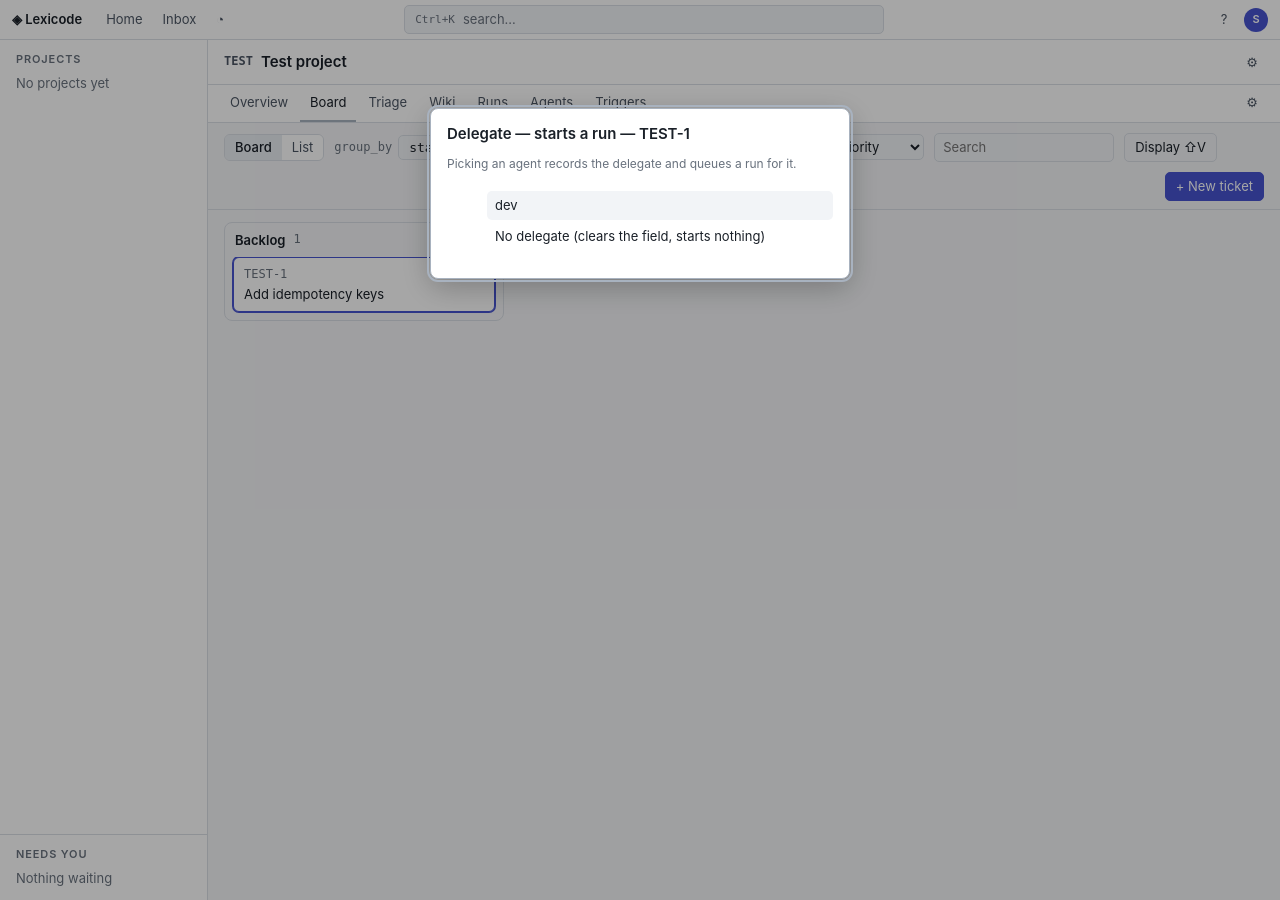
it: the board's `D` picker starts a run (UI spec §5.3) › says where the run actually is — queued with its hold reason, linked
The image size is (1280, 900).
Click the option "dev" at (506, 205), box [487, 191, 833, 220]
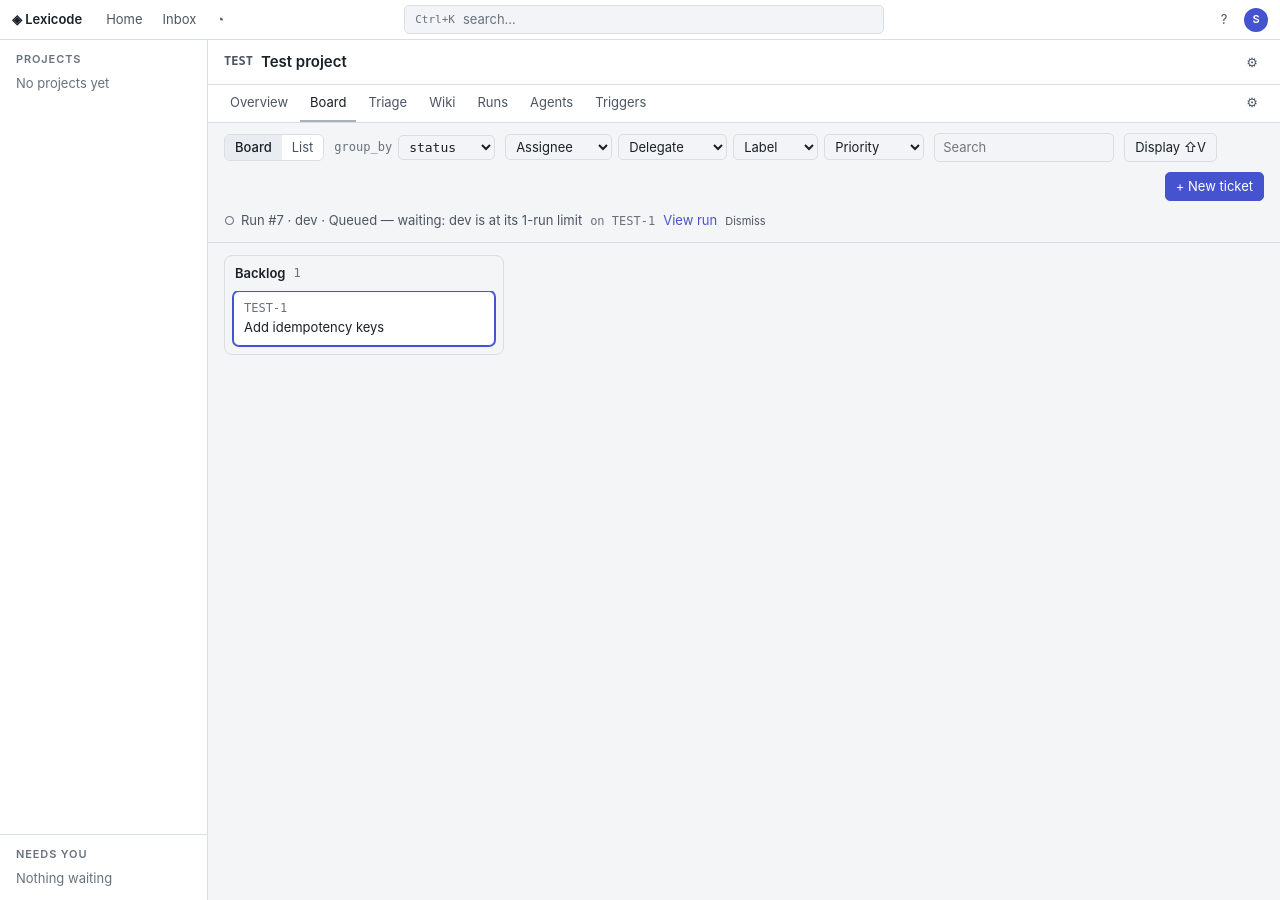
Expected: the message shows "Run #7", [241, 212, 582, 228]
Expected: the message shows "dev", [241, 212, 582, 228]
Expected: the message shows "waiting: dev is at its 1-run limit", [241, 212, 582, 228]
